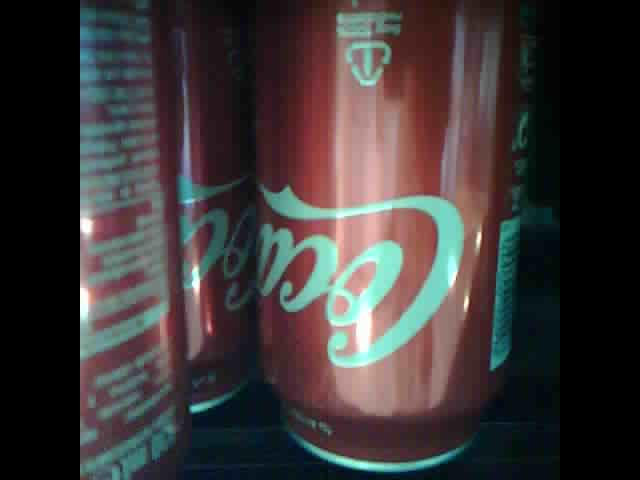coca cola: (256, 1, 526, 472), (79, 6, 188, 477), (187, 1, 252, 417)
